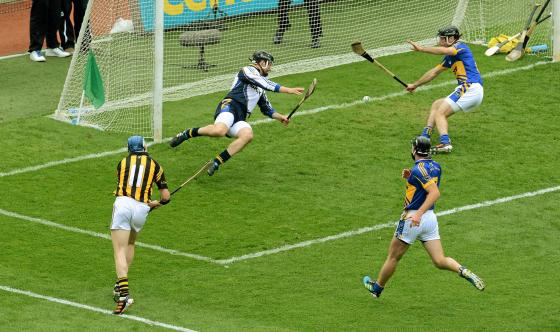hurley: (349, 40, 419, 92), (150, 161, 210, 213), (282, 77, 321, 122)
